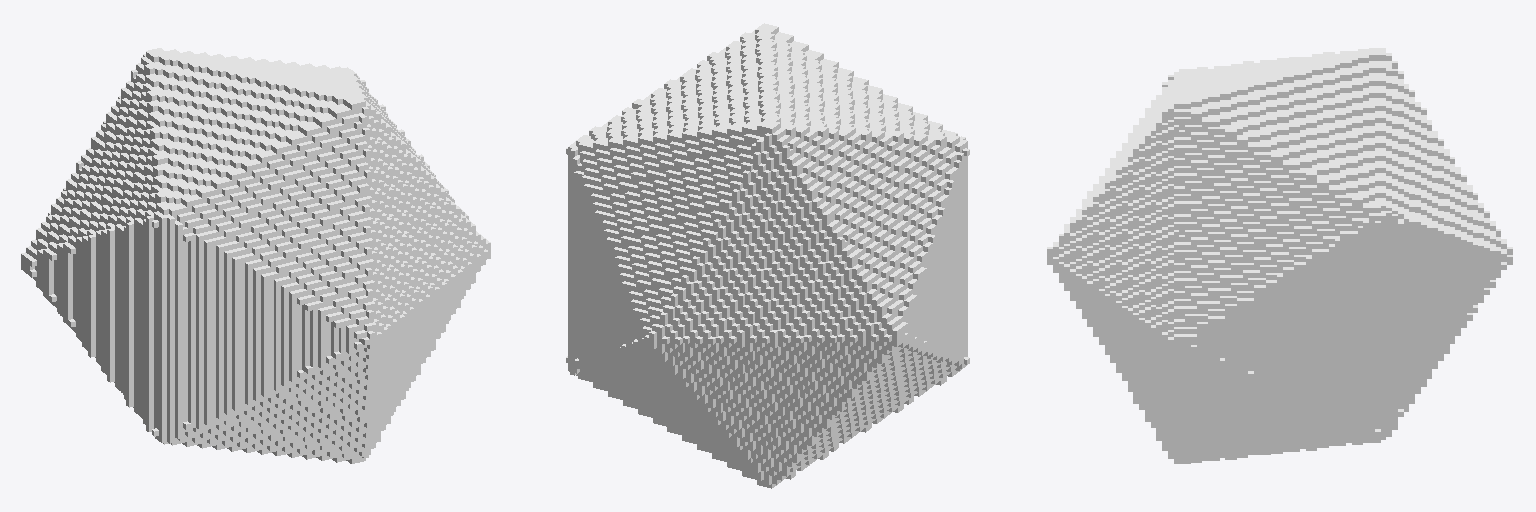
The model's file is icosa20_poly.obj.
The picture shows the model from 3 angles: view 1: azimuth 30°, elevation 25°; view 2: azimuth 150°, elevation 25°; view 3: azimuth 270°, elevation 25°; orthographic projection.
Size of the model in its own units: 73 by 69 by 81.